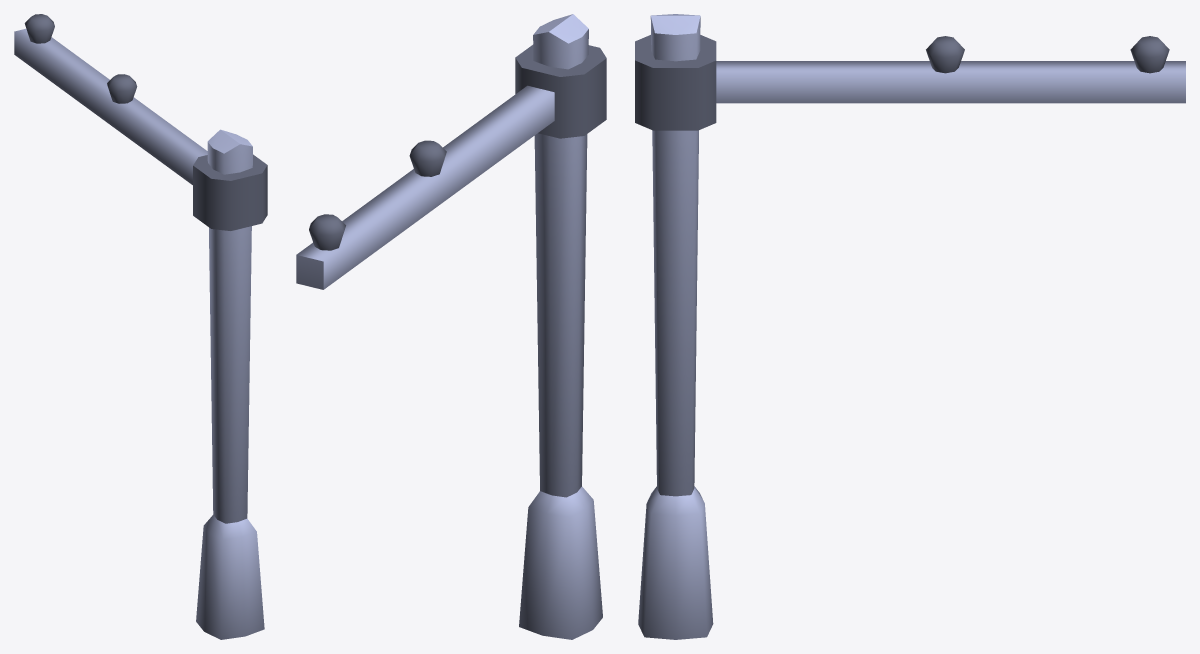
File: electricity-side-single.glb
3 views of the same model, side by side, from view 1: azimuth 30°, elevation 25°; view 2: azimuth 150°, elevation 25°; view 3: azimuth 270°, elevation 25° (orthographic). The views are drawn at different scales.
Parts seen in each view (by area): view 1: electricity-side-single; view 2: electricity-side-single; view 3: electricity-side-single.
Part boxes in pixels (x1=…): electricity-side-single: x1=14, y1=14, x2=267, y2=639; electricity-side-single: x1=296, y1=14, x2=606, y2=639; electricity-side-single: x1=635, y1=14, x2=1185, y2=639.
Size of the model in its own units: 0.0634 by 0.525 by 0.4306.
1 material, 1 textured.
